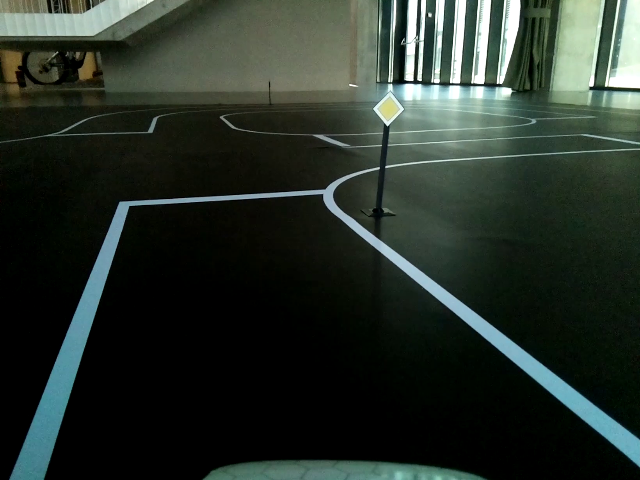priority: (372, 92, 404, 127)
